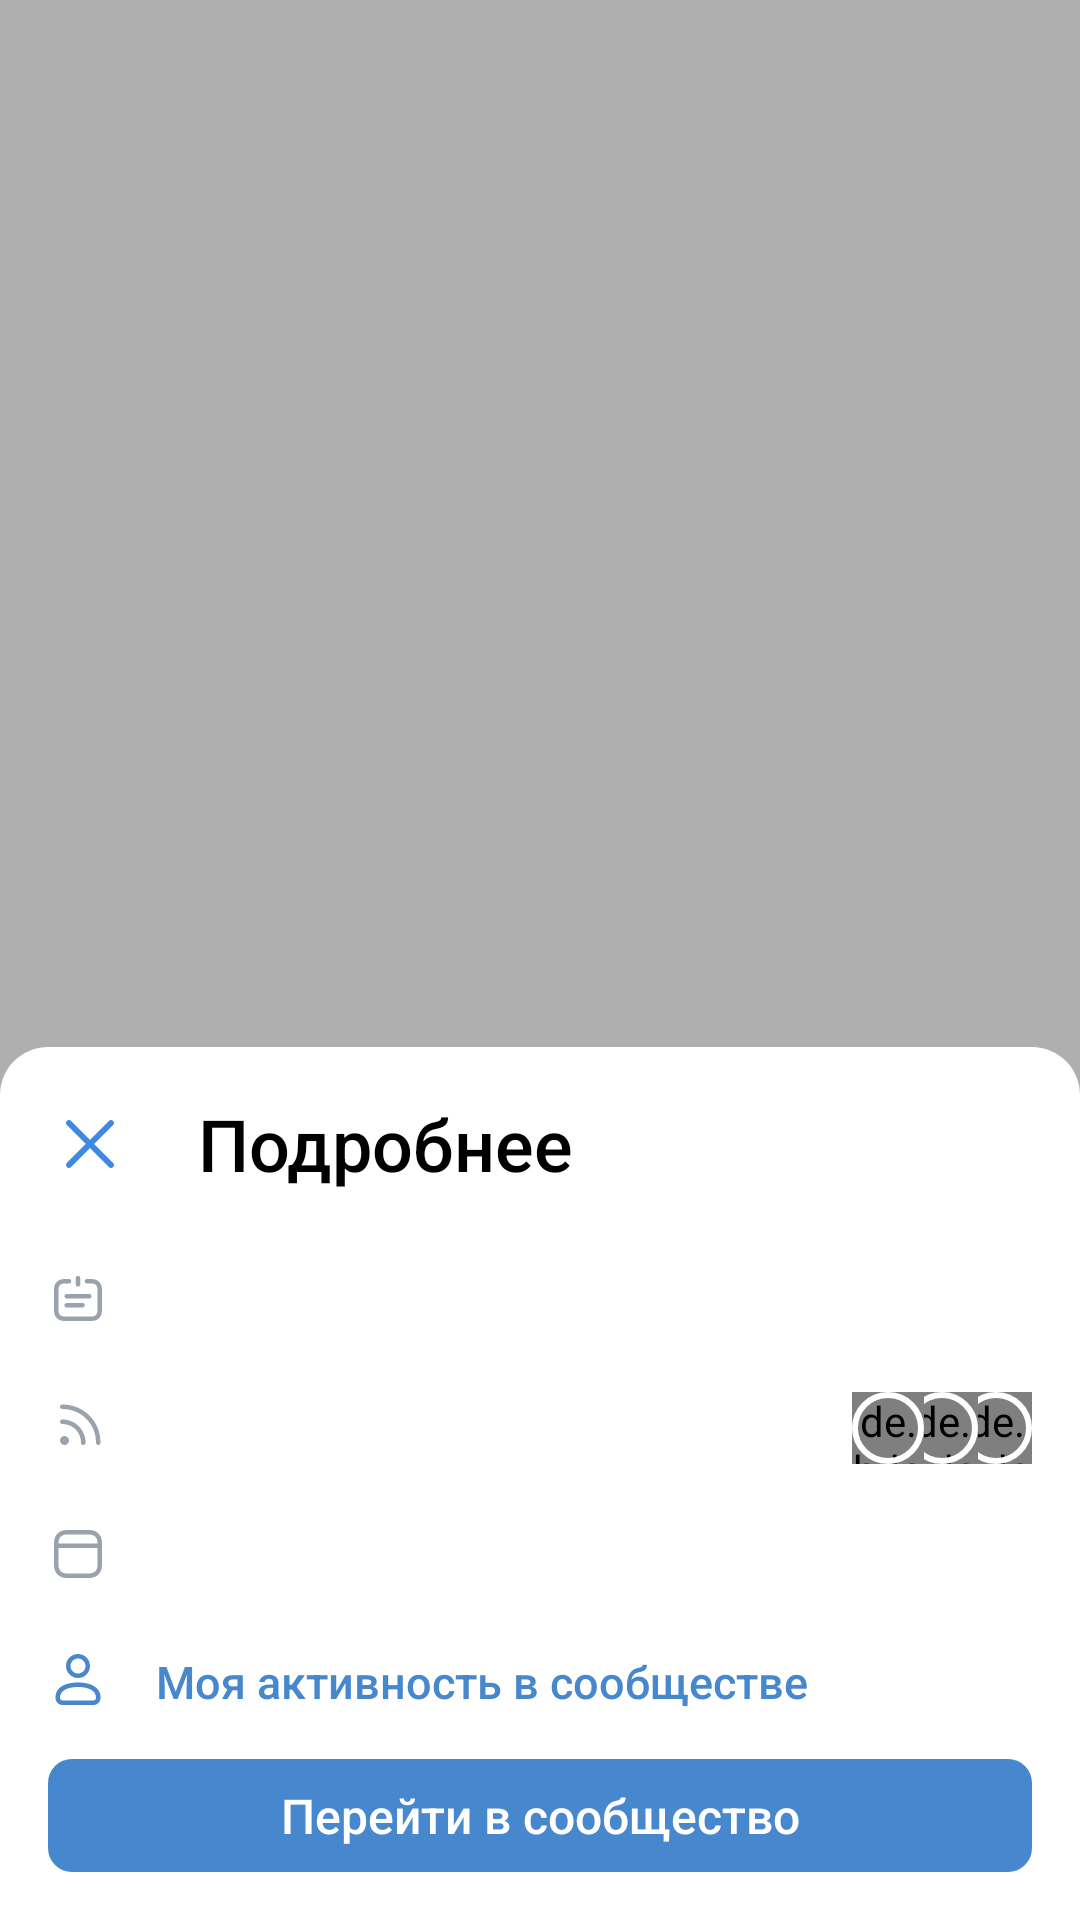

Where icons sit on this 1080px x 1920px app screen, as BBox(x1, y1, x2, y2):
cancel: BBox(66, 1120, 114, 1168)
user: BBox(55, 1654, 101, 1705)
